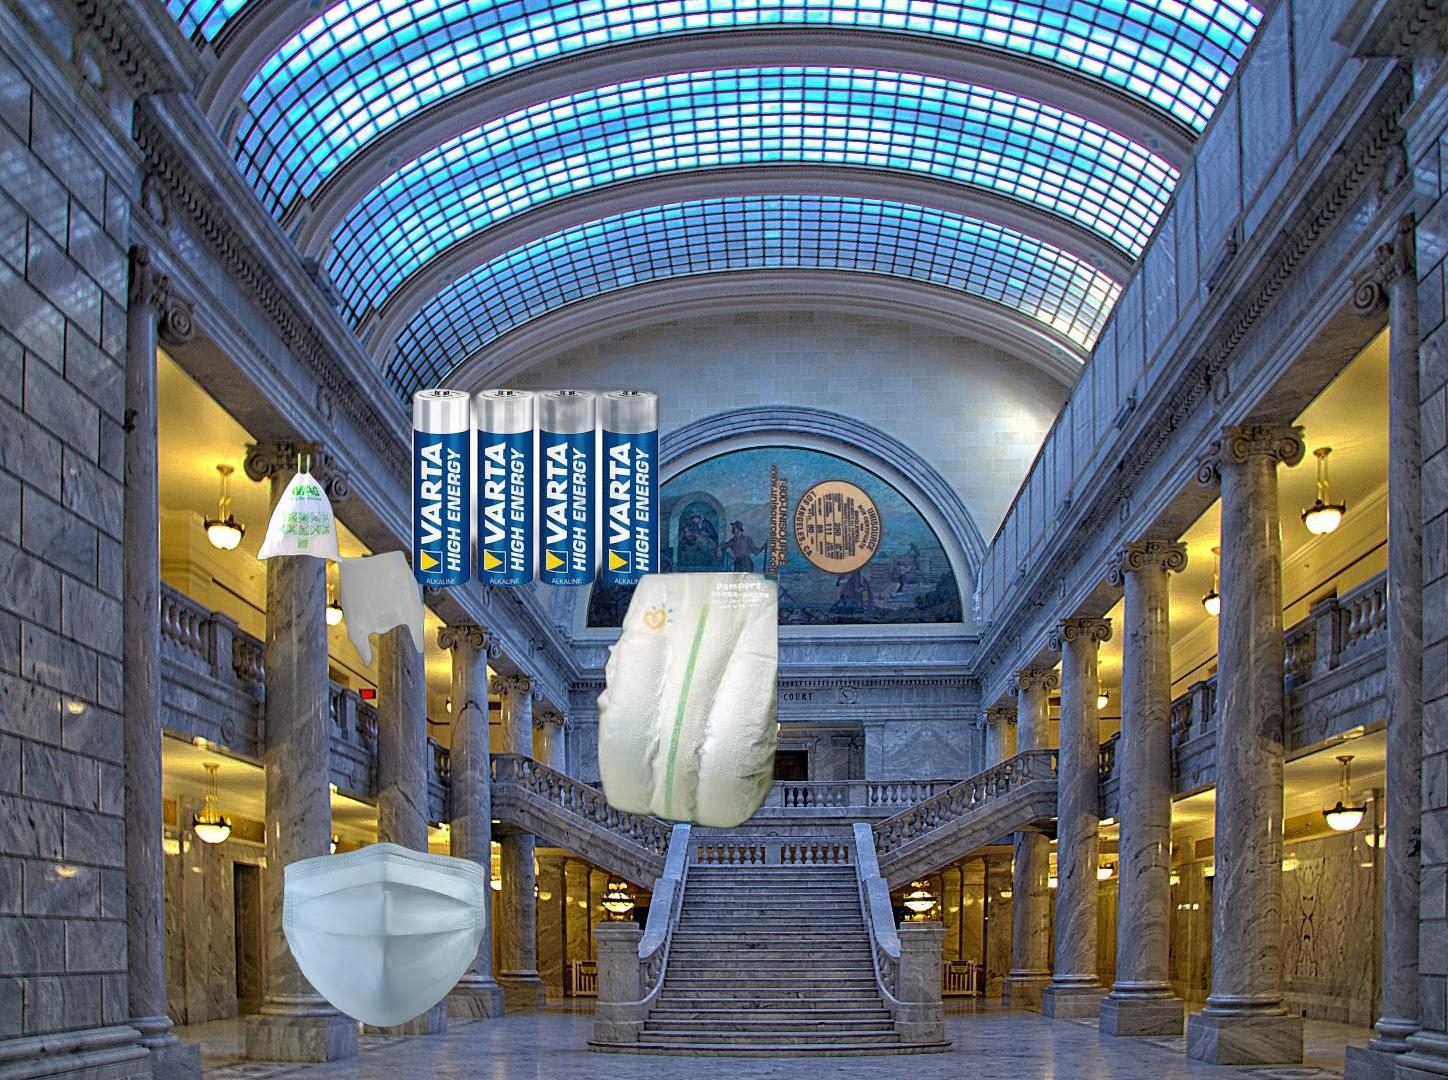battery: (412, 387, 660, 590)
plastic-bag: (254, 450, 427, 670)
trash: (590, 572, 780, 837), (279, 839, 496, 1030)
trashbox-cardboard: (765, 462, 886, 580)
